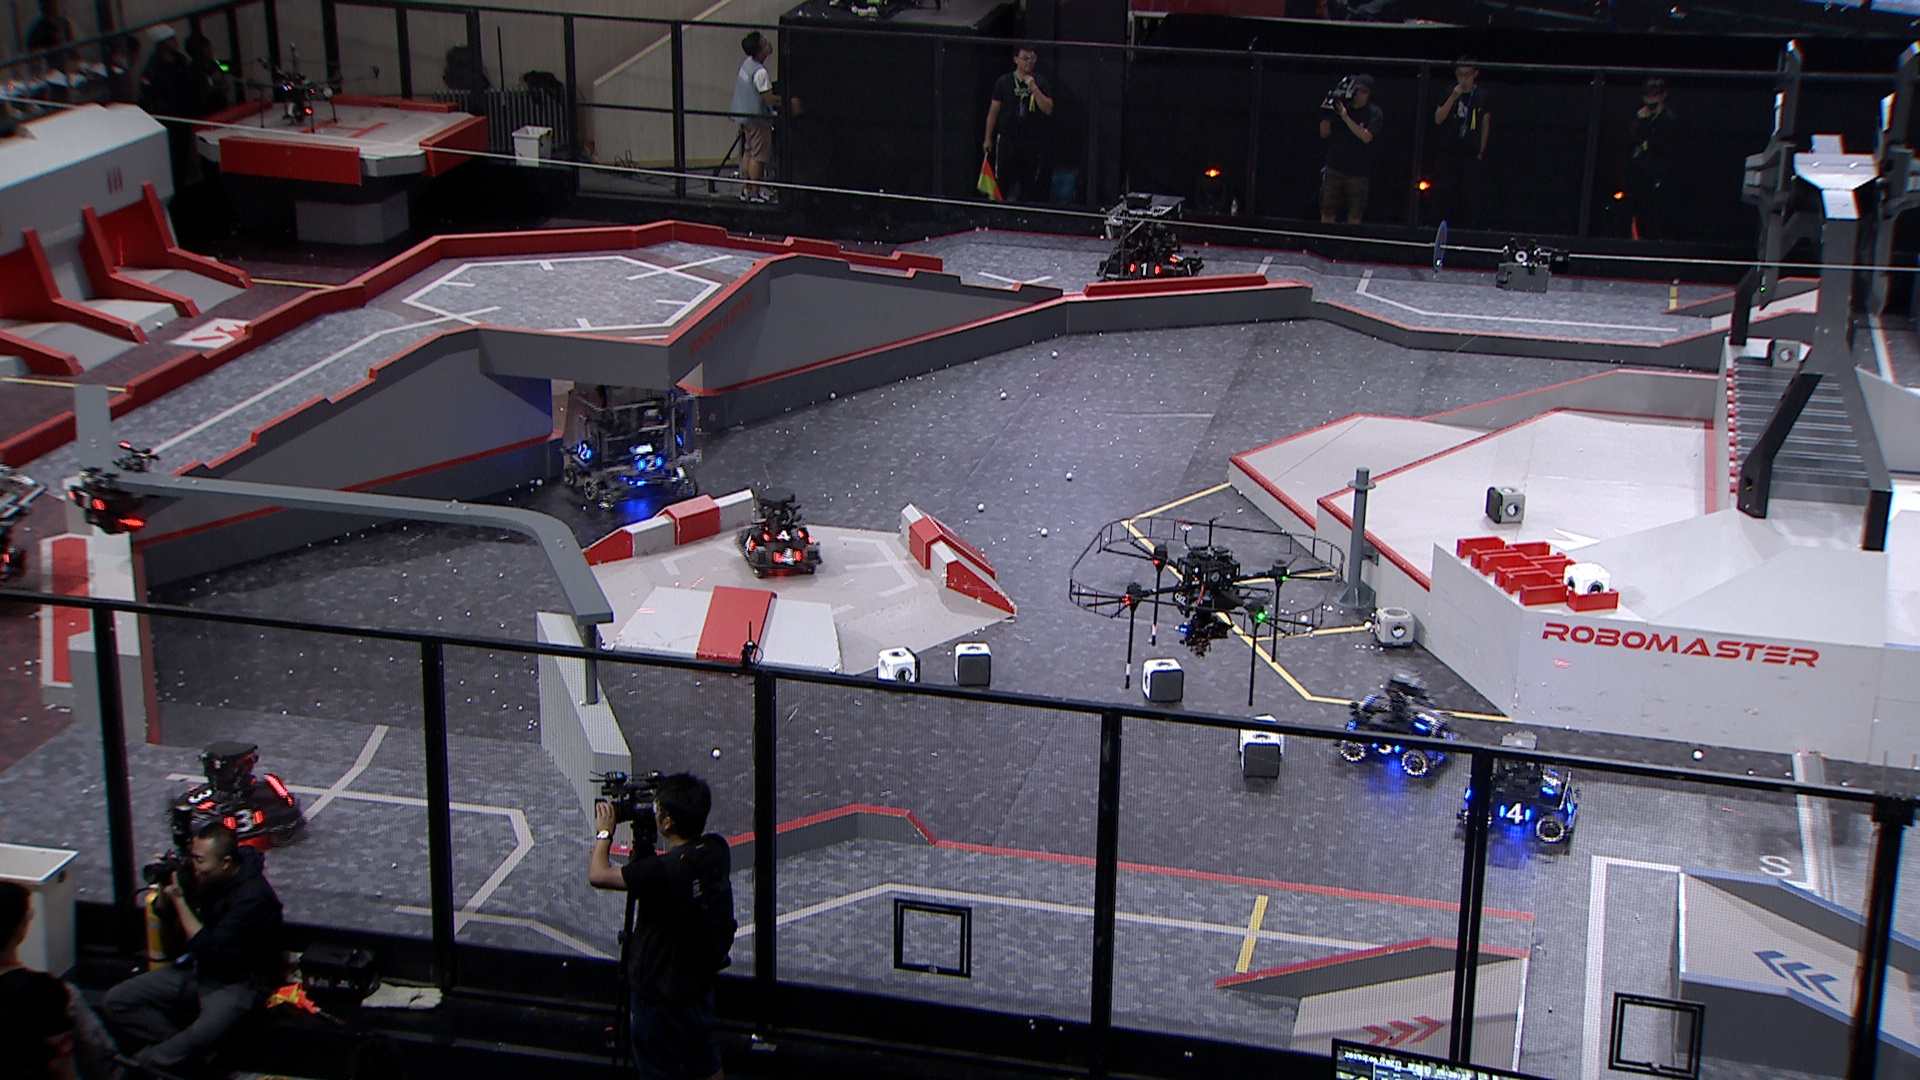armor: (65, 485, 112, 516), (223, 807, 266, 836), (1498, 800, 1534, 825), (185, 785, 218, 811), (1538, 766, 1564, 798), (760, 527, 807, 543), (771, 547, 803, 566), (1367, 738, 1400, 756), (1414, 708, 1437, 732), (1125, 261, 1160, 277), (572, 442, 595, 465), (638, 455, 665, 473), (1564, 790, 1578, 818), (1168, 251, 1189, 266), (740, 534, 756, 553), (1182, 262, 1196, 278)
car: (556, 376, 703, 508), (169, 742, 309, 851), (1453, 727, 1581, 841), (1333, 673, 1461, 777), (1098, 194, 1211, 281), (733, 488, 823, 578)
watcher: (62, 442, 160, 535)
